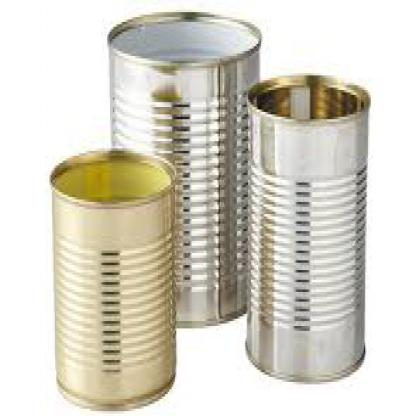METAL: (107, 10, 261, 326), (243, 70, 368, 380), (46, 146, 178, 411)
